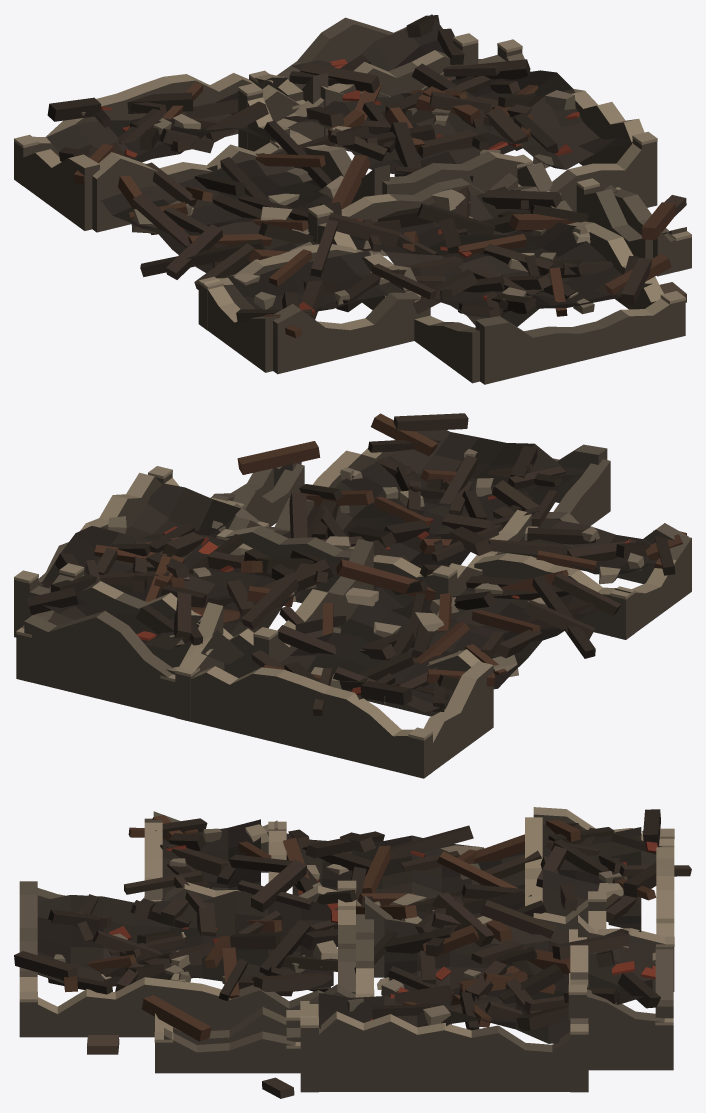
The model's file is VerBuild08b.glb.
3 views of the same model, one above another, from view 1: azimuth 30°, elevation 25°; view 2: azimuth 150°, elevation 25°; view 3: azimuth 270°, elevation 25° (orthographic).
Visible parts, largest first — view 1: VerBuild08b_adobe; view 2: VerBuild08b_adobe; view 3: VerBuild08b_adobe.
Boxes of the visible parts, box(x1,y1,x2,y2) form: VerBuild08b_adobe: box(14, 14, 691, 384); VerBuild08b_adobe: box(14, 413, 691, 778); VerBuild08b_adobe: box(14, 807, 691, 1098).
Size of the model in its own units: 9.72 by 1.52 by 11.45.
